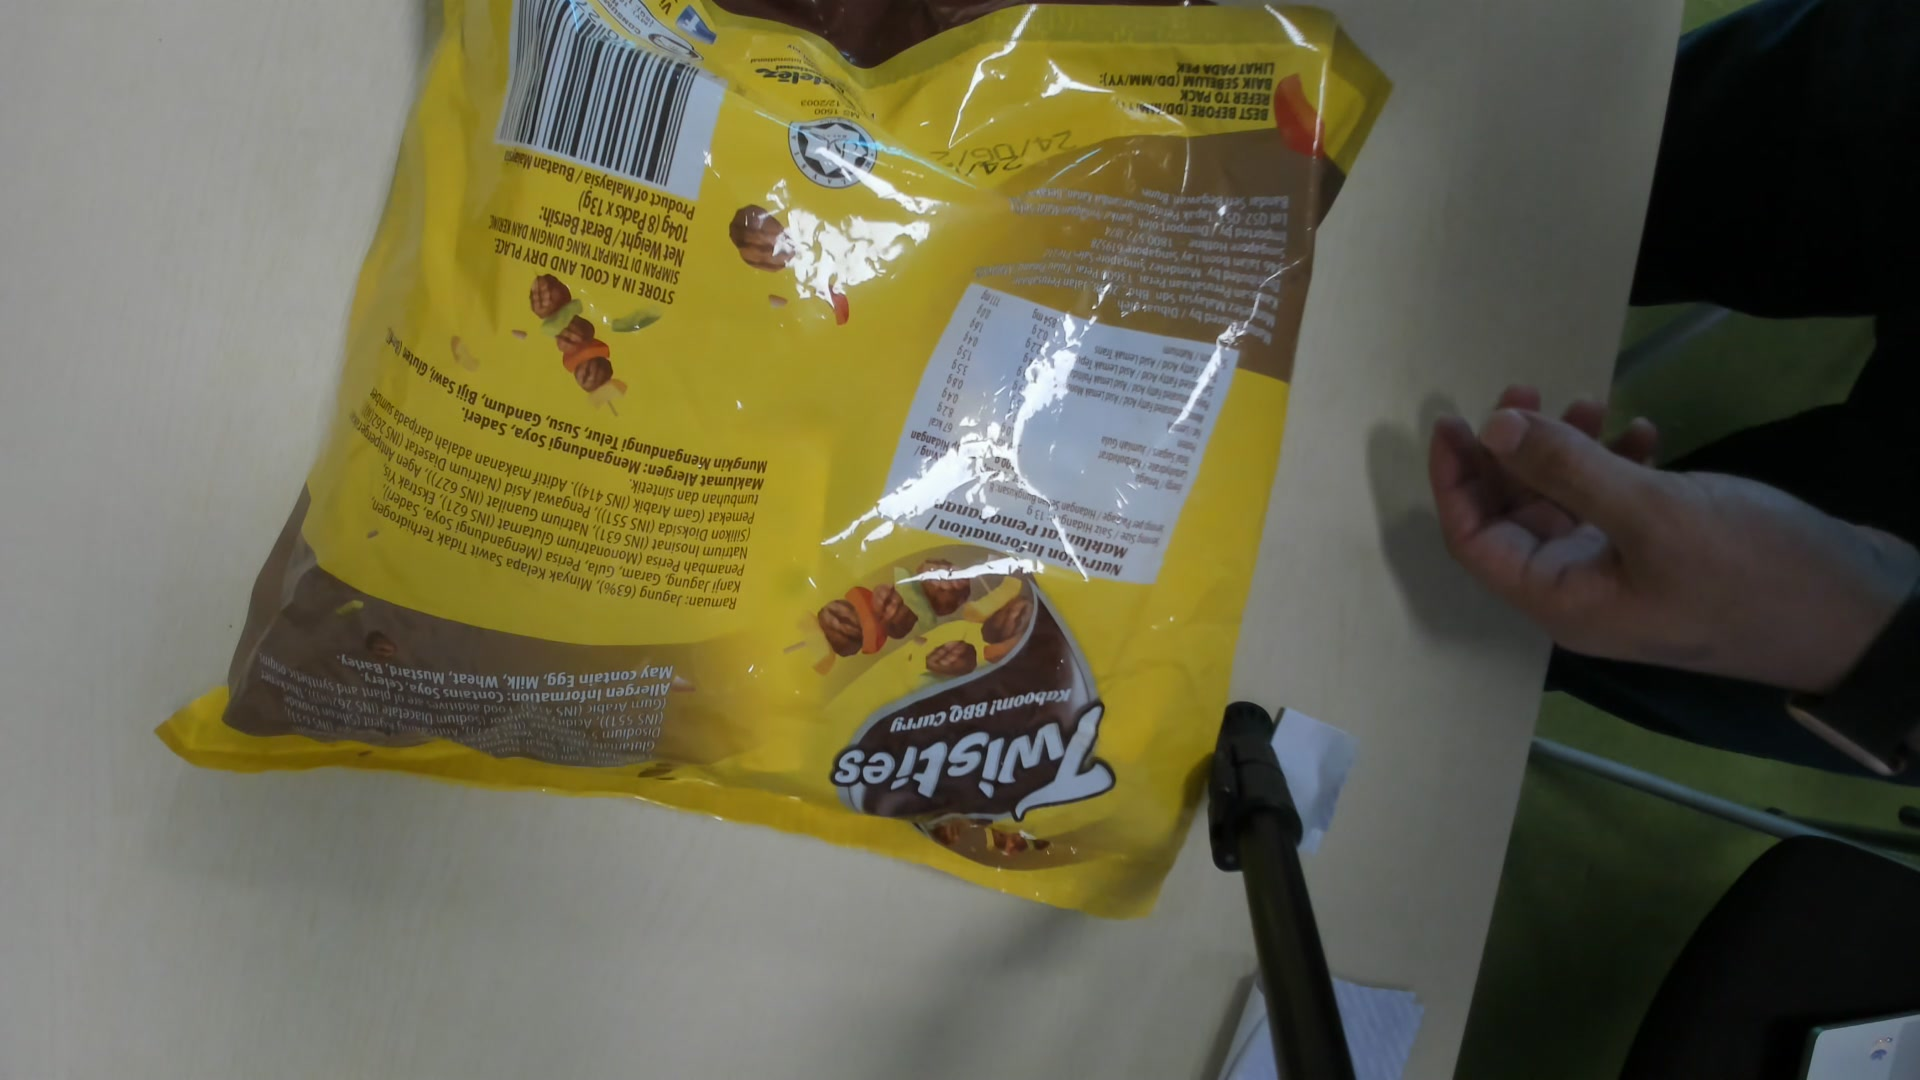PotatoChipsKeropok_0-99g_Halal_NonHealthy: (182, 12, 1389, 918)
